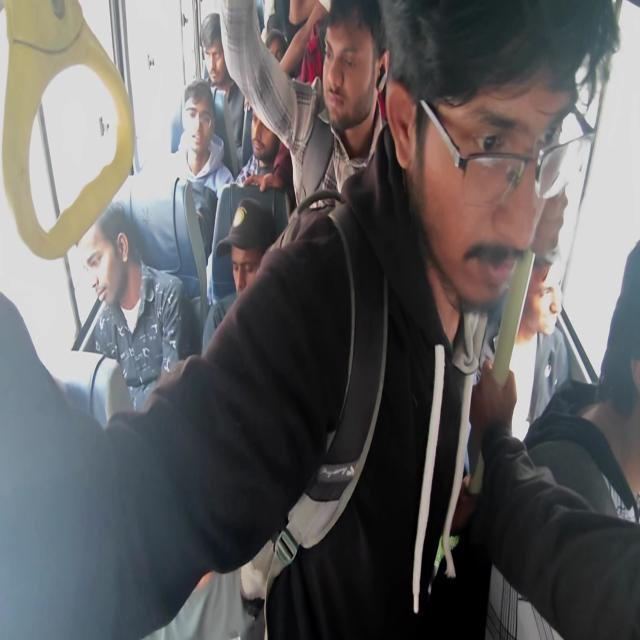person: (1, 1, 621, 638), (468, 237, 639, 638), (199, 196, 276, 638), (235, 0, 389, 211), (76, 200, 186, 412), (130, 78, 234, 276), (201, 197, 275, 357), (172, 78, 234, 200), (199, 12, 245, 145), (234, 105, 293, 193)
